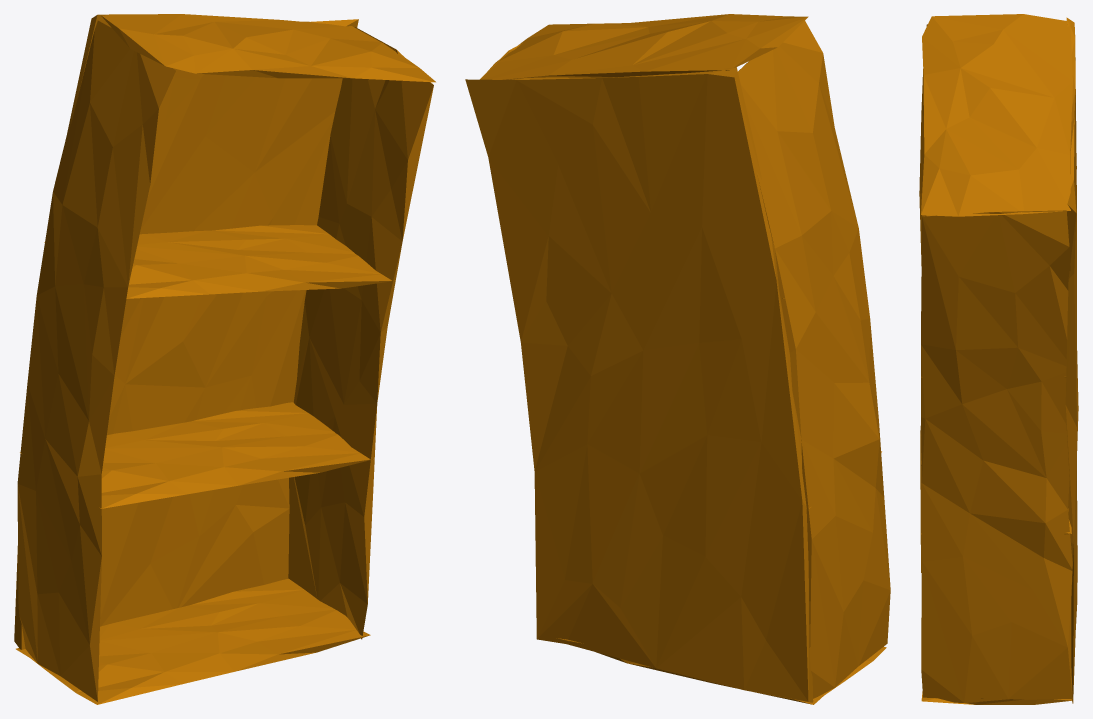
File: stm_env_NewShelf.fbx
The picture shows the model from 3 angles, left to right: view 1: azimuth 30°, elevation 25°; view 2: azimuth 150°, elevation 25°; view 3: azimuth 270°, elevation 25°; orthographic projection. The views are drawn at different scales.
Parts seen in each view (by area): view 1: Shelf; view 2: Shelf; view 3: Shelf.
Boxes of the visible parts, x1,y1,x2,y2 form: Shelf: [14, 14, 435, 704]; Shelf: [465, 14, 890, 704]; Shelf: [919, 14, 1078, 704].
Size of the model in its own units: 519 by 882 by 212.
